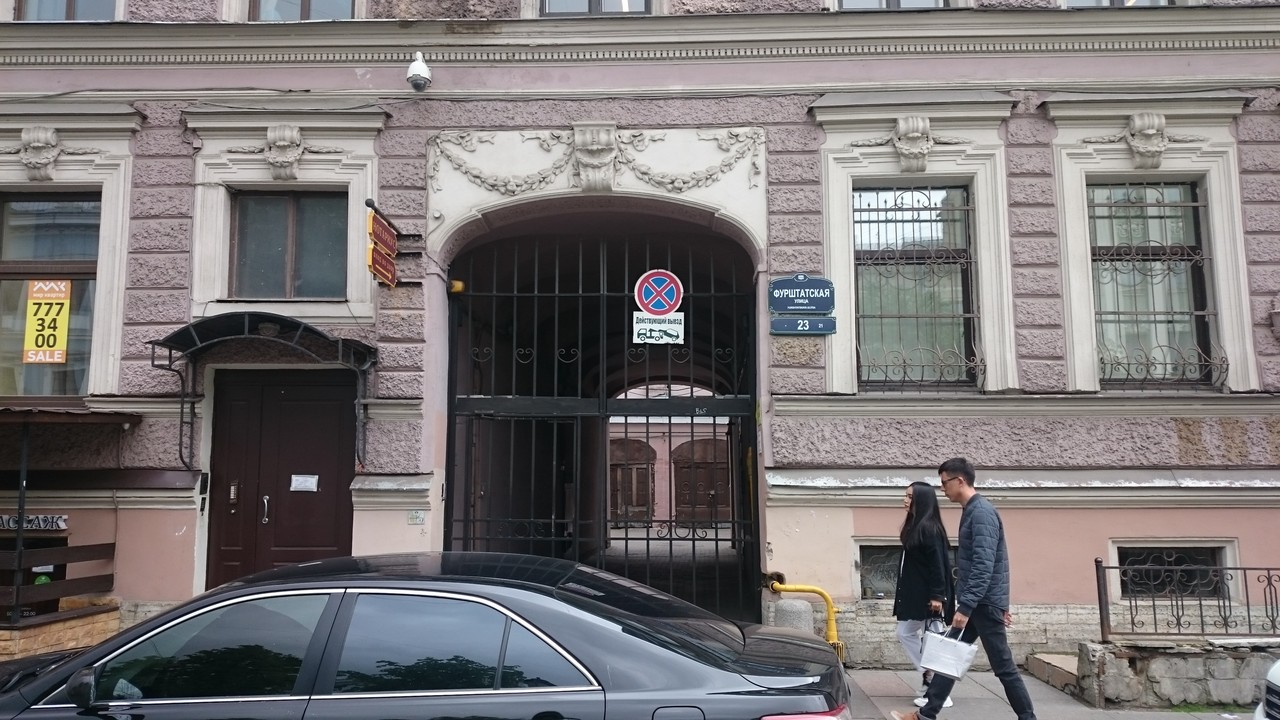arch: (434, 188, 764, 623)
cantilever: (360, 193, 422, 297)
door: (210, 369, 352, 563)
window: (1081, 180, 1223, 389), (855, 186, 971, 390), (1, 186, 103, 396), (227, 187, 348, 304)
